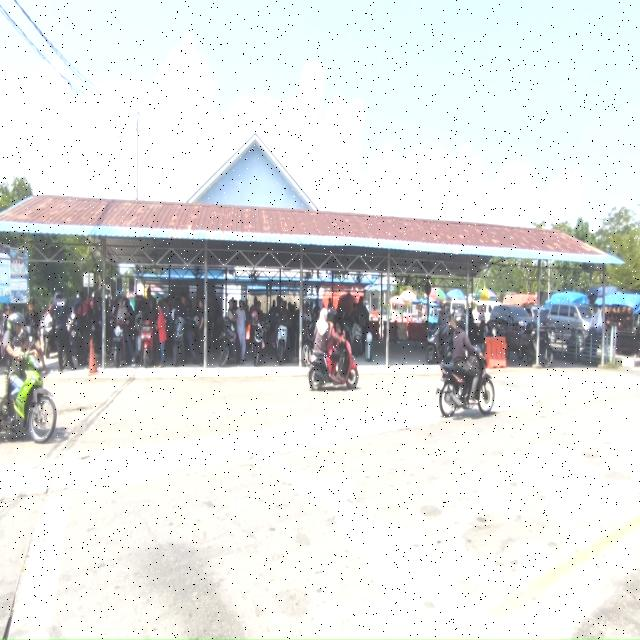Golongan II: (0, 355, 57, 443), (435, 358, 495, 417), (307, 340, 358, 390), (517, 327, 554, 368), (426, 324, 453, 364), (219, 319, 240, 367), (251, 314, 268, 366), (67, 311, 82, 366), (41, 312, 57, 358), (140, 318, 154, 368), (112, 320, 126, 368), (173, 316, 186, 367), (302, 321, 315, 366), (276, 324, 288, 365), (349, 322, 362, 356)
